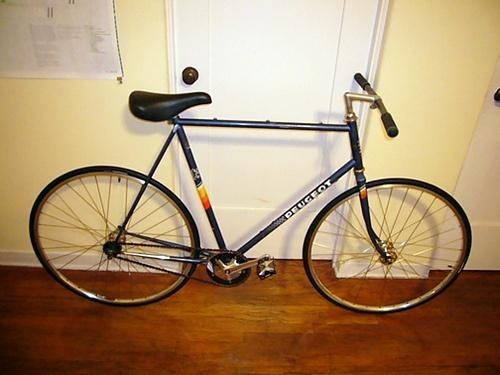bicycle: (31, 71, 473, 317)
